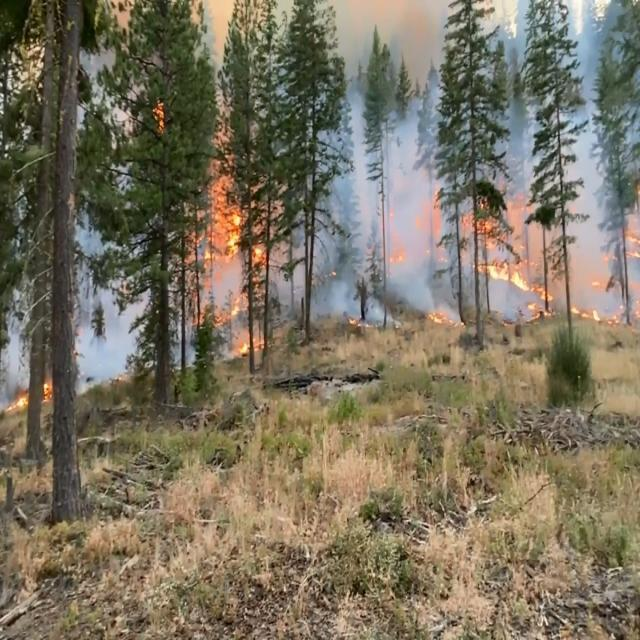Fire: (206, 166, 269, 357)
